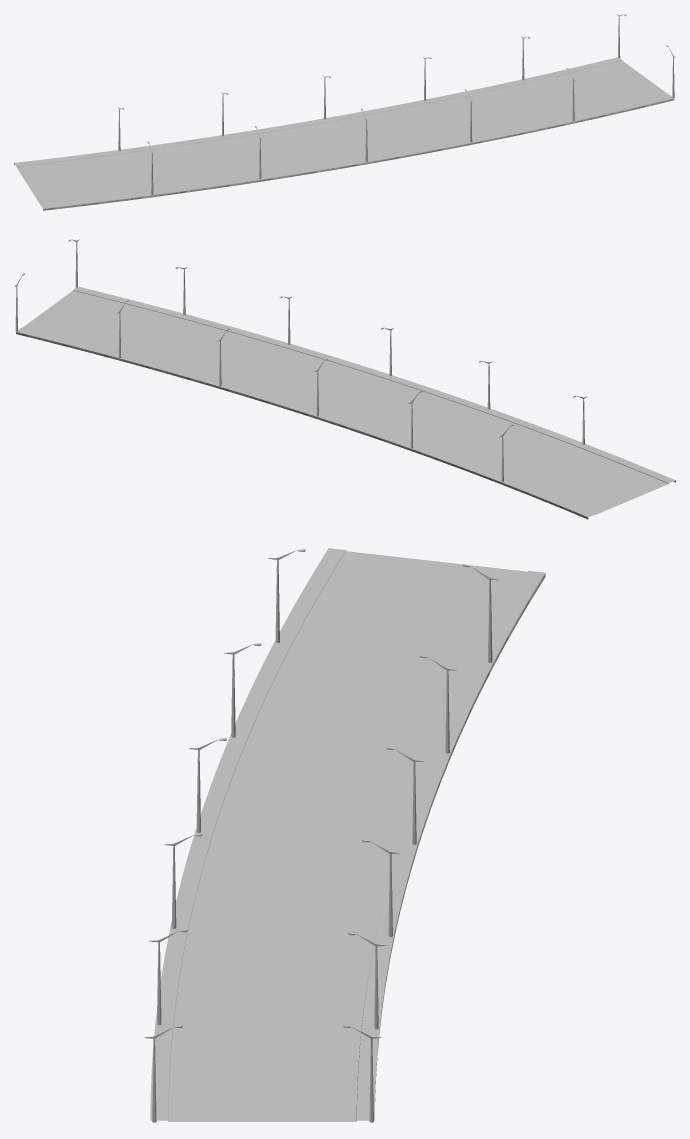
Rendered from Big_Road_15.FBX.
3 views of the same model, one above another, from view 1: azimuth 30°, elevation 25°; view 2: azimuth 150°, elevation 25°; view 3: azimuth 270°, elevation 25° (orthographic). The views are drawn at different scales.
Visible parts, largest first — view 1: Big_Road_15, city_light002; view 2: Big_Road_15, city_light002; view 3: Big_Road_15, city_light002.
Boxes of the visible parts, <box> form: Big_Road_15: <box>14,57,674,210</box>; city_light002: <box>118,14,675,194</box>; Big_Road_15: <box>16,286,675,519</box>; city_light002: <box>14,239,586,481</box>; Big_Road_15: <box>150,548,545,1121</box>; city_light002: <box>144,549,499,1122</box>.
Bounding box in the file's own units: 13704 × 1104 × 4051.
